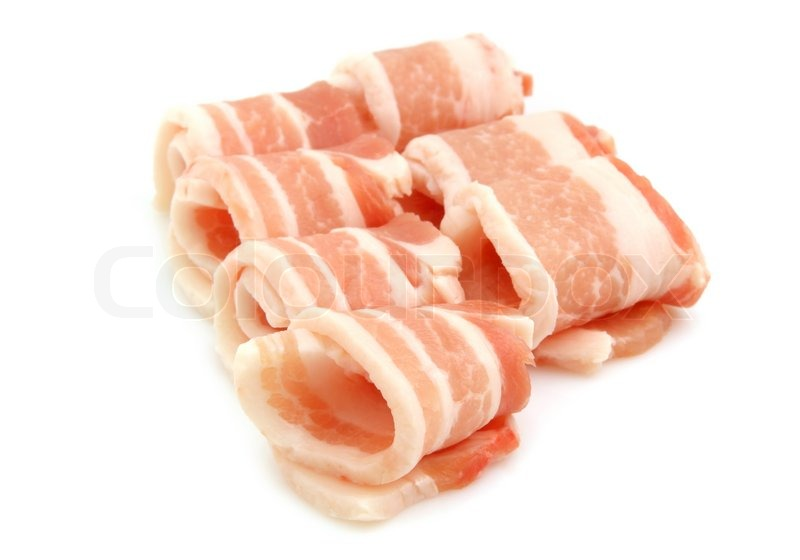bacon: (150, 33, 742, 460)
